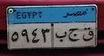3: (40, 26, 51, 44)
4: (30, 27, 40, 45)
5: (11, 30, 19, 43)
9: (21, 27, 29, 45)
baa: (55, 28, 67, 44)
jeem: (68, 26, 80, 44)
qaaf: (82, 26, 94, 43)
